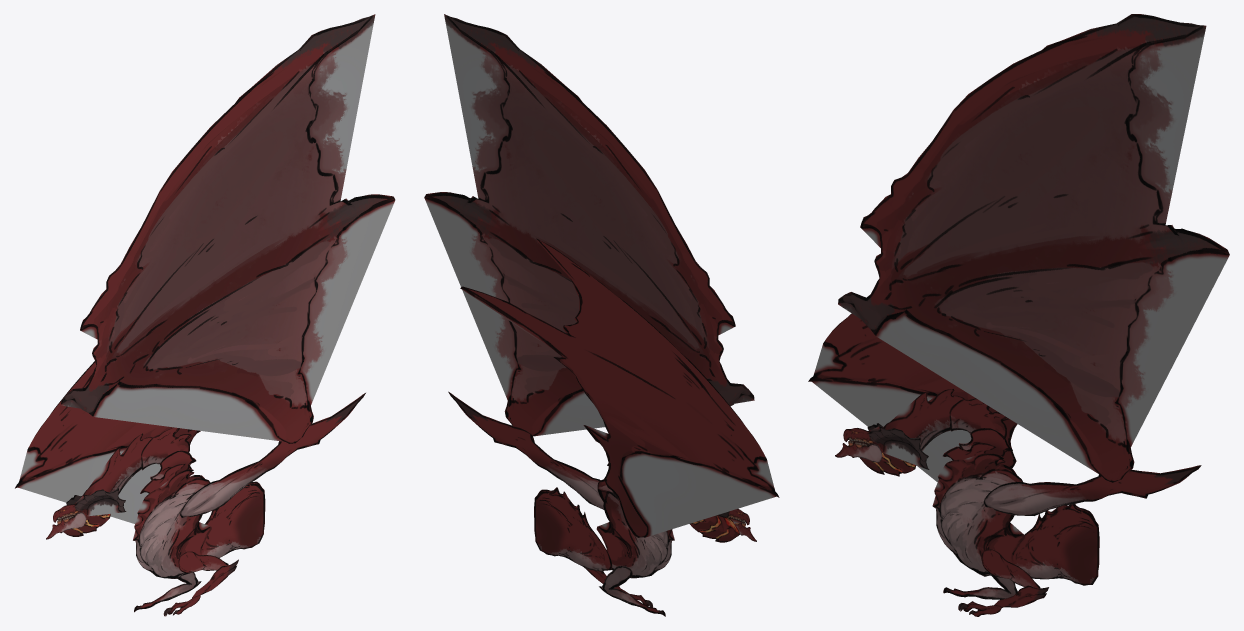
Rendered from dragon1_170609.fbx.
3 views of the same model, side by side, from view 1: azimuth 30°, elevation 25°; view 2: azimuth 150°, elevation 25°; view 3: azimuth 330°, elevation 25° (orthographic). The views are drawn at different scales.
Parts seen in each view (by area): view 1: L_wing_poly, R_wing, chest, L_wingarm_poly, koshi_poly, neck_poly1, head_poly, neck_poly2, L_arm, R_arm, neck_poly3; view 2: L_wing_poly, R_wing, koshi_poly, chest, L_wingarm_poly, R_arm, neck_poly1; view 3: L_wing_poly, R_wing, chest, koshi_poly, L_wingarm_poly, neck_poly1, head_poly, neck_poly2, L_arm, R_arm, neck_poly3, L_arm2 (+1 smaller).
Part boxes in pixels (x1,y1,x2,y2): L_wing_poly: [61, 14, 395, 443]; R_wing: [15, 361, 200, 523]; chest: [133, 469, 211, 578]; L_wingarm_poly: [180, 393, 365, 517]; koshi_poly: [201, 481, 265, 557]; neck_poly1: [63, 433, 152, 536]; head_poly: [53, 488, 126, 522]; neck_poly2: [140, 427, 191, 470]; L_arm: [178, 551, 228, 572]; R_arm: [134, 572, 201, 612]; neck_poly3: [150, 450, 196, 479]; L_wing_poly: [424, 14, 754, 436]; R_wing: [460, 238, 779, 537]; koshi_poly: [534, 487, 612, 571]; chest: [596, 478, 674, 578]; L_wingarm_poly: [448, 391, 604, 509]; R_arm: [599, 565, 665, 616]; neck_poly1: [690, 515, 739, 542]; L_wing_poly: [838, 14, 1229, 482]; R_wing: [808, 313, 1017, 481]; chest: [932, 453, 1025, 577]; koshi_poly: [1013, 504, 1099, 585]; L_wingarm_poly: [983, 465, 1201, 515]; neck_poly1: [859, 389, 964, 476]; head_poly: [843, 426, 929, 469]; neck_poly2: [949, 398, 1008, 438]; L_arm: [981, 549, 1040, 588]; R_arm: [943, 576, 1017, 599]; neck_poly3: [958, 428, 1012, 456]; L_arm2: [994, 585, 1048, 607].
Size of the model in its own units: 26.13 by 37.23 by 1.28.
